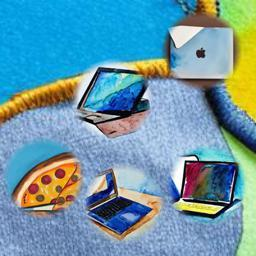something that can be eaten: (10, 153, 82, 212)
